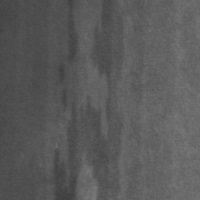inclusion: (47, 94, 118, 199), (90, 1, 128, 117), (50, 2, 80, 90)
